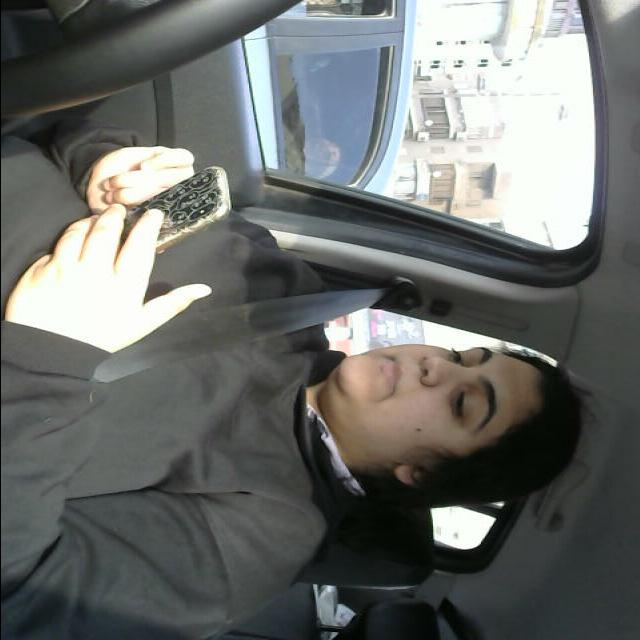mobile use: (98, 157, 242, 257)
